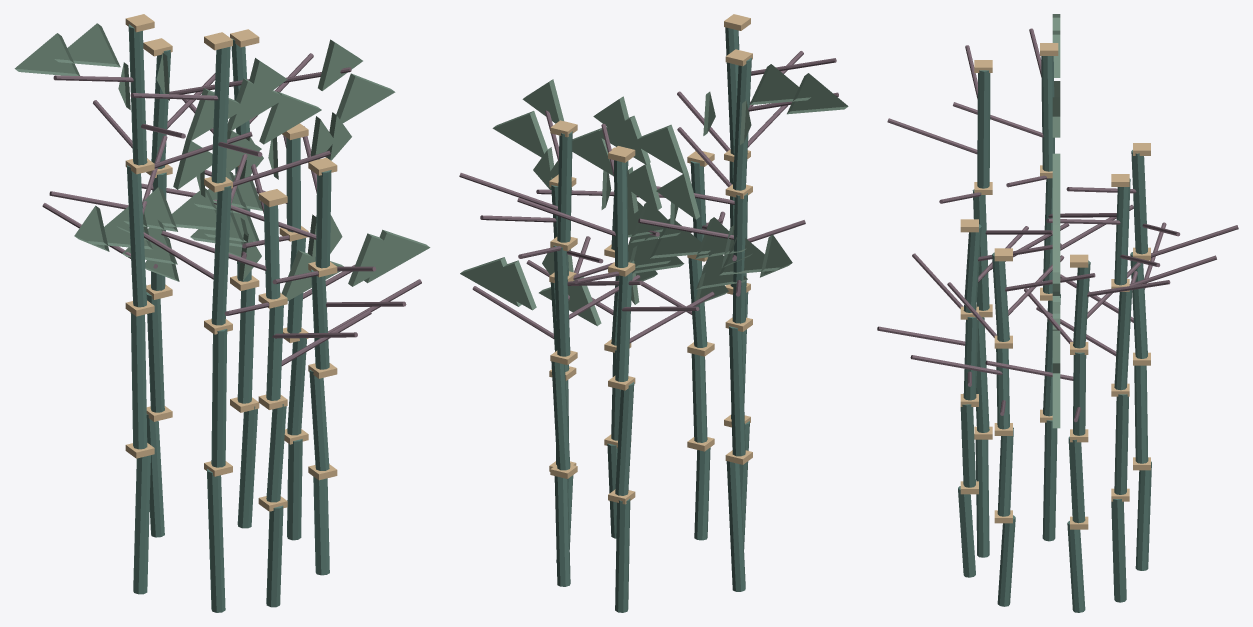
File: moonfall_bamboo_canopy_lod0.glb
3 views of the same model, side by side, from view 1: azimuth 30°, elevation 25°; view 2: azimuth 150°, elevation 25°; view 3: azimuth 270°, elevation 25° (orthographic). The views are drawn at different scales.
Parts seen in each view (by area): view 1: moonfall_bamboo_canopy_090, moonfall_bamboo_canopy_036, moonfall_bamboo_canopy_092, moonfall_bamboo_canopy_094, moonfall_bamboo_canopy_038, moonfall_bamboo_canopy_040, moonfall_bamboo_canopy_096, moonfall_bamboo_canopy_042, moonfall_bamboo_canopy_018, moonfall_bamboo_canopy_074, moonfall_bamboo_canopy_020, moonfall_bamboo_canopy_107 (+36 smaller); view 2: moonfall_bamboo_canopy_036, moonfall_bamboo_canopy_038, moonfall_bamboo_canopy_040, moonfall_bamboo_canopy_072, moonfall_bamboo_canopy_018, moonfall_bamboo_canopy_020, moonfall_bamboo_canopy_074, moonfall_bamboo_canopy_042, moonfall_bamboo_canopy_078, moonfall_bamboo_canopy_022, moonfall_bamboo_canopy_024, moonfall_bamboo_canopy_076 (+31 smaller); view 3: moonfall_bamboo_canopy_096, moonfall_bamboo_canopy_036, moonfall_bamboo_canopy_090, moonfall_bamboo_canopy_042, moonfall_bamboo_canopy_018, moonfall_bamboo_canopy_072, moonfall_bamboo_canopy_020, moonfall_bamboo_canopy_022, moonfall_bamboo_canopy_074, moonfall_bamboo_canopy_078, moonfall_bamboo_canopy_024, moonfall_bamboo_canopy_108 (+16 smaller).
Part boxes in pixels (bbox=[...]): moonfall_bamboo_canopy_090: bbox=[207, 469, 225, 612]; moonfall_bamboo_canopy_036: bbox=[133, 455, 150, 594]; moonfall_bamboo_canopy_092: bbox=[211, 329, 227, 467]; moonfall_bamboo_canopy_094: bbox=[211, 186, 231, 325]; moonfall_bamboo_canopy_038: bbox=[130, 313, 147, 449]; moonfall_bamboo_canopy_040: bbox=[127, 165, 146, 307]; moonfall_bamboo_canopy_096: bbox=[211, 46, 230, 183]; moonfall_bamboo_canopy_042: bbox=[128, 24, 147, 165]; moonfall_bamboo_canopy_018: bbox=[237, 406, 257, 528]; moonfall_bamboo_canopy_074: bbox=[146, 292, 164, 412]; moonfall_bamboo_canopy_020: bbox=[237, 287, 255, 403]; moonfall_bamboo_canopy_107: bbox=[54, 23, 120, 67]; moonfall_bamboo_canopy_036: bbox=[726, 461, 745, 591]; moonfall_bamboo_canopy_038: bbox=[729, 326, 745, 456]; moonfall_bamboo_canopy_040: bbox=[732, 193, 747, 323]; moonfall_bamboo_canopy_072: bbox=[615, 498, 630, 612]; moonfall_bamboo_canopy_018: bbox=[554, 476, 570, 586]; moonfall_bamboo_canopy_020: bbox=[551, 361, 570, 470]; moonfall_bamboo_canopy_074: bbox=[615, 382, 634, 495]; moonfall_bamboo_canopy_042: bbox=[733, 57, 751, 190]; moonfall_bamboo_canopy_078: bbox=[614, 160, 628, 267]; moonfall_bamboo_canopy_022: bbox=[553, 245, 570, 356]; moonfall_bamboo_canopy_024: bbox=[557, 131, 572, 242]; moonfall_bamboo_canopy_076: bbox=[615, 272, 632, 381]; moonfall_bamboo_canopy_096: bbox=[977, 70, 990, 188]; moonfall_bamboo_canopy_036: bbox=[1042, 420, 1057, 541]; moonfall_bamboo_canopy_090: bbox=[975, 439, 989, 557]; moonfall_bamboo_canopy_042: bbox=[1041, 56, 1054, 171]; moonfall_bamboo_canopy_018: bbox=[1111, 499, 1126, 602]; moonfall_bamboo_canopy_072: bbox=[1135, 461, 1151, 570]; moonfall_bamboo_canopy_020: bbox=[1114, 394, 1128, 494]; moonfall_bamboo_canopy_022: bbox=[1114, 290, 1132, 390]; moonfall_bamboo_canopy_074: bbox=[1134, 365, 1148, 463]; moonfall_bamboo_canopy_078: bbox=[1131, 150, 1147, 254]; moonfall_bamboo_canopy_024: bbox=[1114, 178, 1130, 285]; moonfall_bamboo_canopy_108: bbox=[1067, 521, 1085, 612].
Size of the model in its own units: 8.49 by 11.29 by 7.5.
